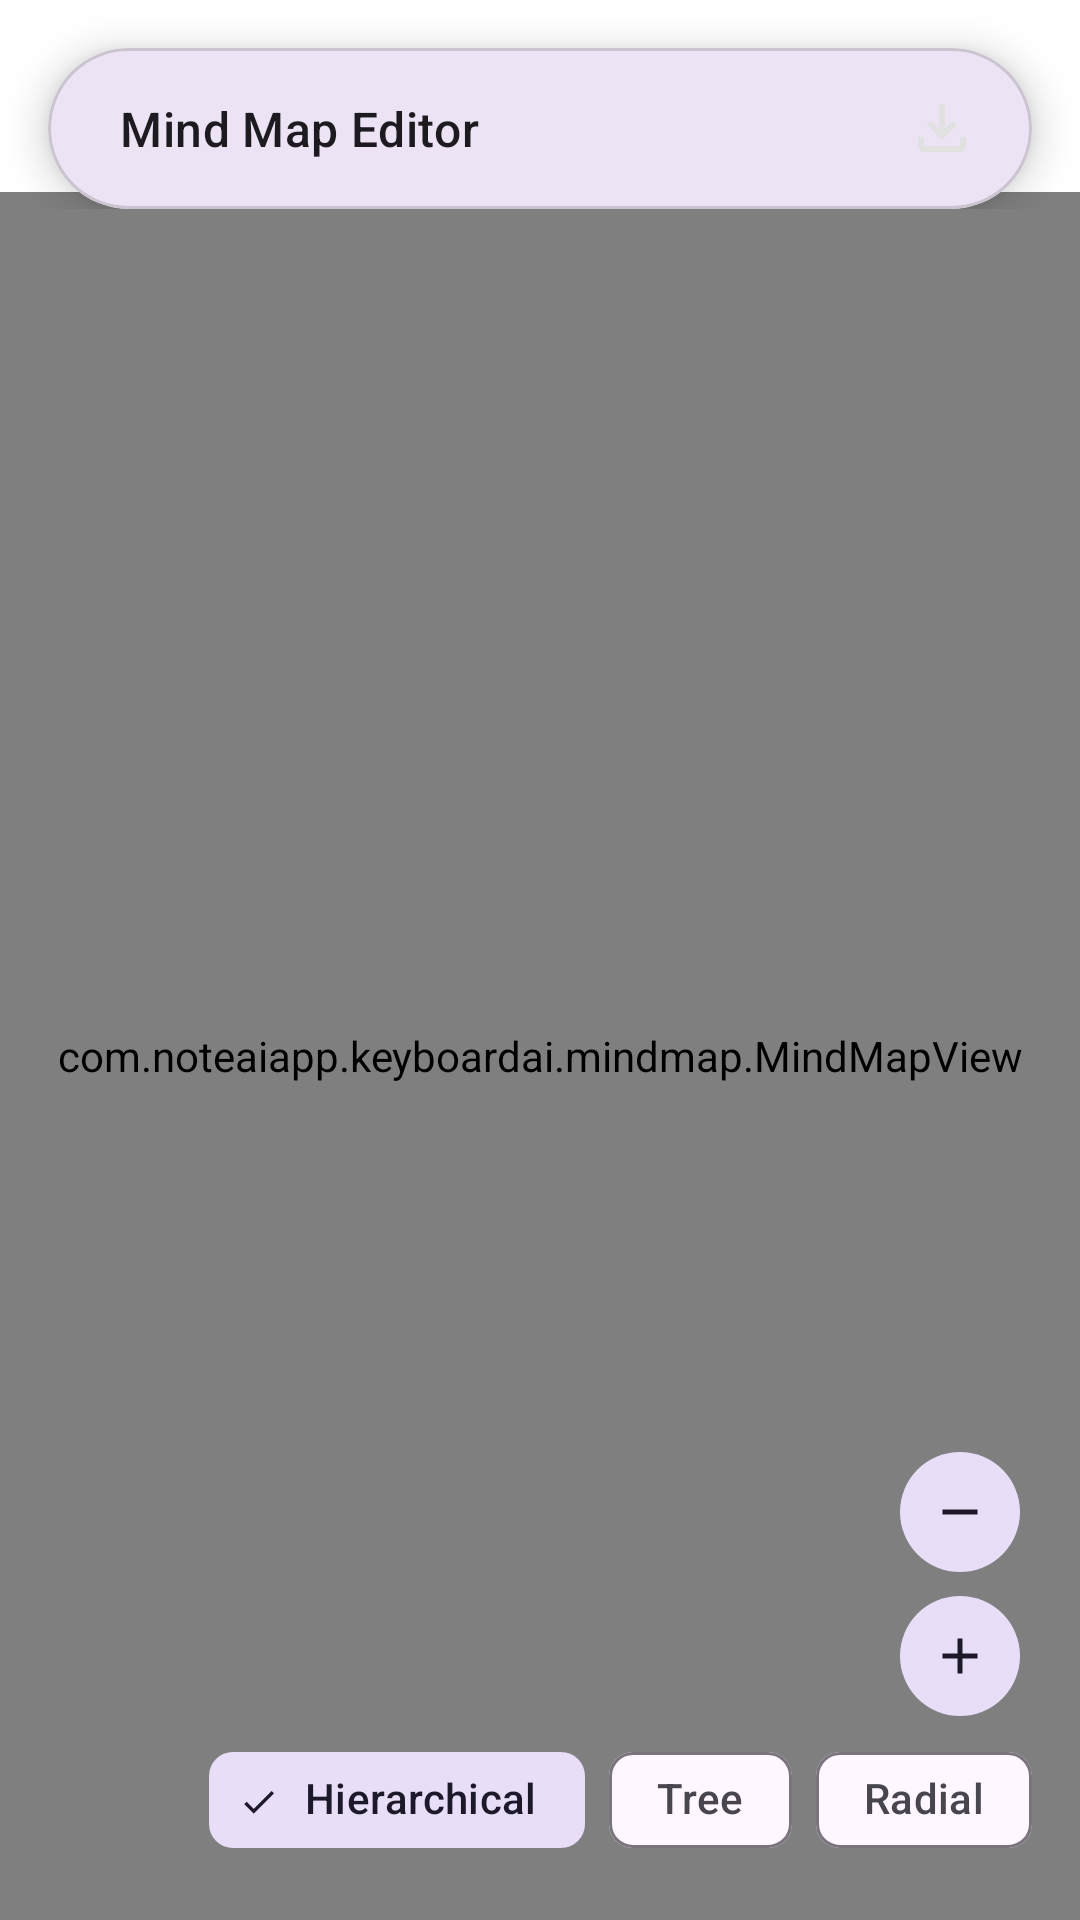

Screen size 1080 x 1920. Icon name, then its center in pixels as point (x, y):
Zoom In: point (960, 1656)
Zoom Out: point (960, 1512)
